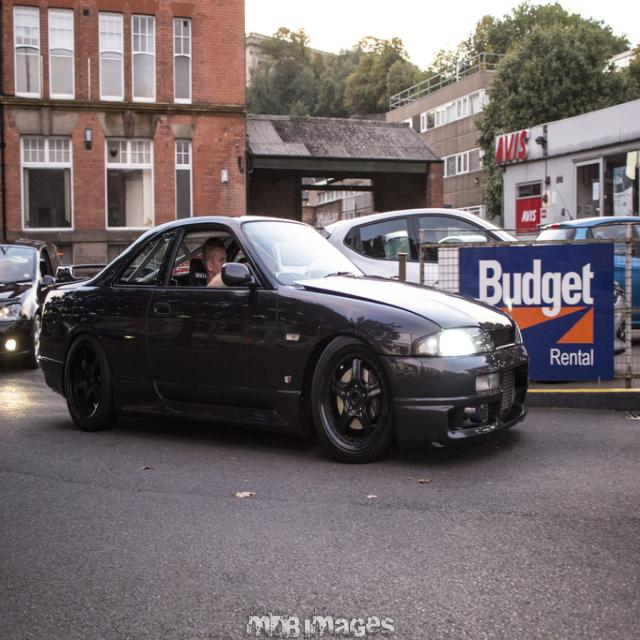car: (36, 213, 528, 458)
